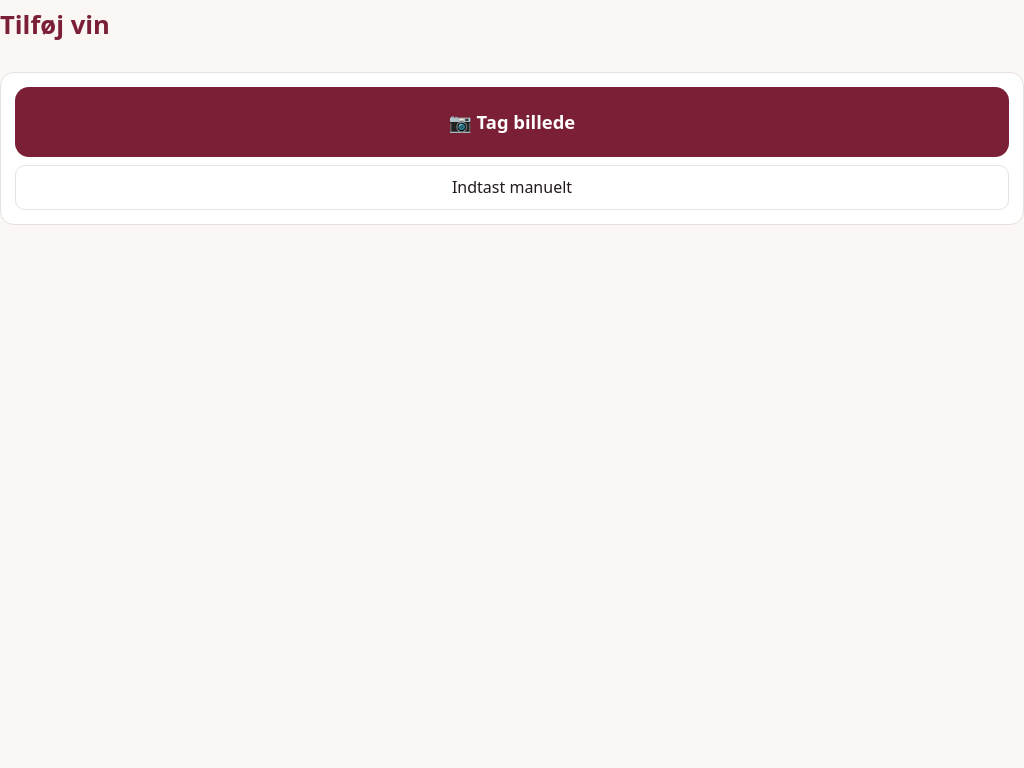
saving without a name shows an error
What coordinates should you click on to do the following:
click the button "Indtast manuelt"
I would click on:
 (512, 188)
Its box is [15,165,1009,210].
(page scrolled)
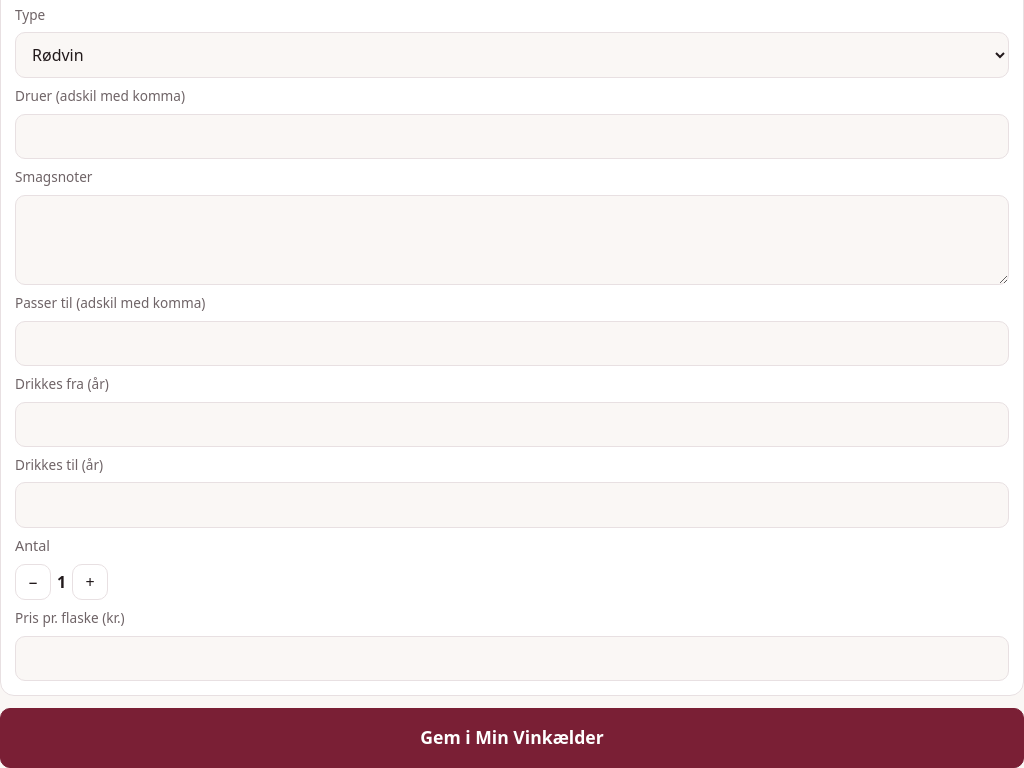
What coordinates should you click on to do the following:
click the button "Gem i Min Vinkælder"
I would click on:
 (512, 738)
Its box is [0,708,1023,767].
(page scrolled)
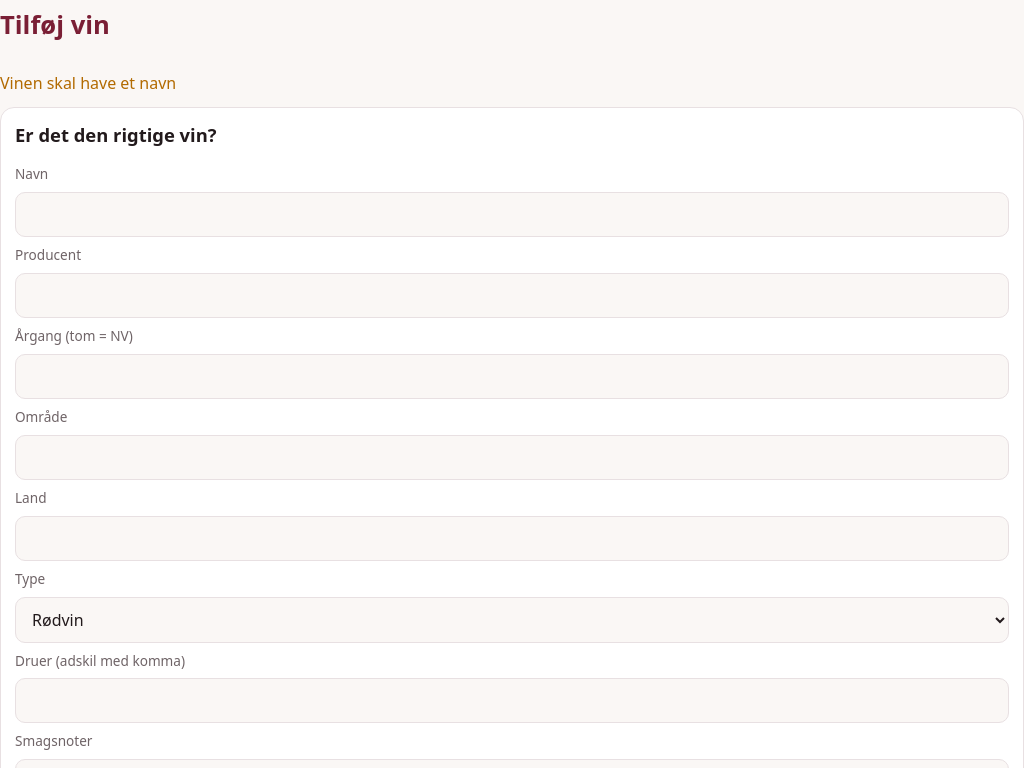
Now the text "Vinen skal have et navn" is shown, box [0,72,176,94]
